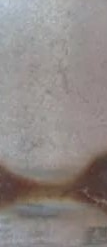Corrosion: (1, 150, 107, 209)
